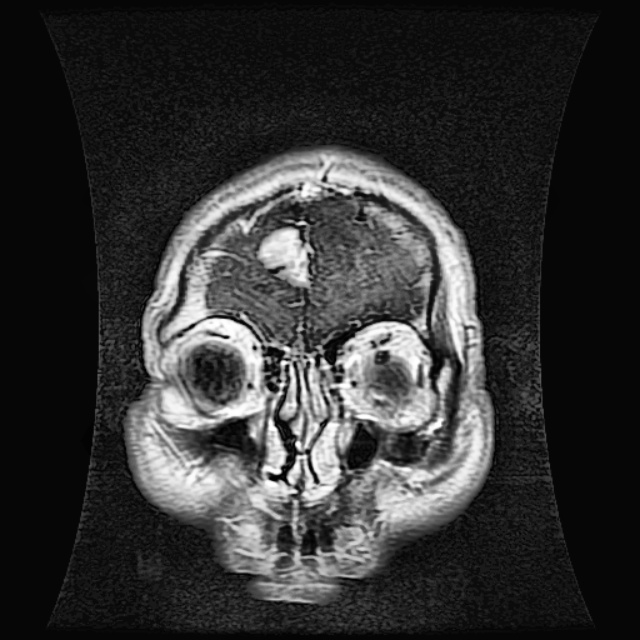Meningioma: (258, 227, 309, 284)
